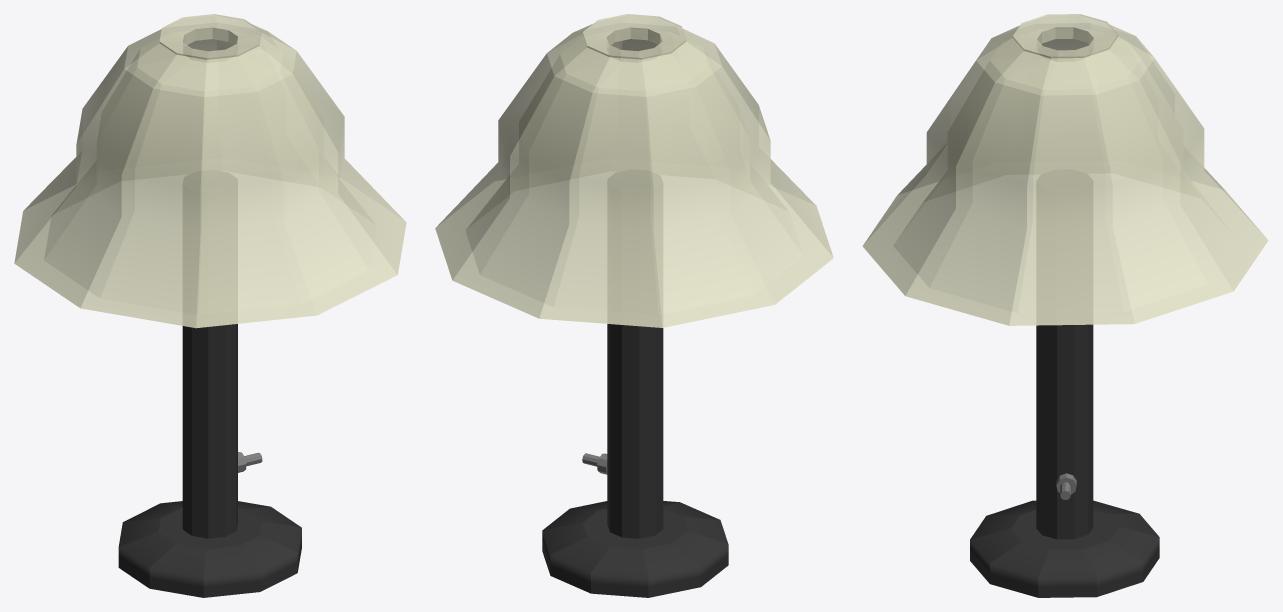
The model's file is LampTableTop 1.fbx.
3 renders of one model, left to right at view 1: azimuth 30°, elevation 25°; view 2: azimuth 150°, elevation 25°; view 3: azimuth 270°, elevation 25°, orthographic.
Parts seen in each view (by area): view 1: LampShade1, Pole; view 2: LampShade1, Pole; view 3: LampShade1, Pole.
Part boxes in pixels (bbox=[...]): LampShade1: bbox=[14, 14, 406, 328]; Pole: bbox=[118, 324, 301, 597]; LampShade1: bbox=[435, 14, 833, 327]; Pole: bbox=[542, 324, 728, 597]; LampShade1: bbox=[862, 14, 1268, 325]; Pole: bbox=[970, 324, 1159, 597].
Bounding box in the file's own units: 0.4452 × 0.6597 × 0.4631.
